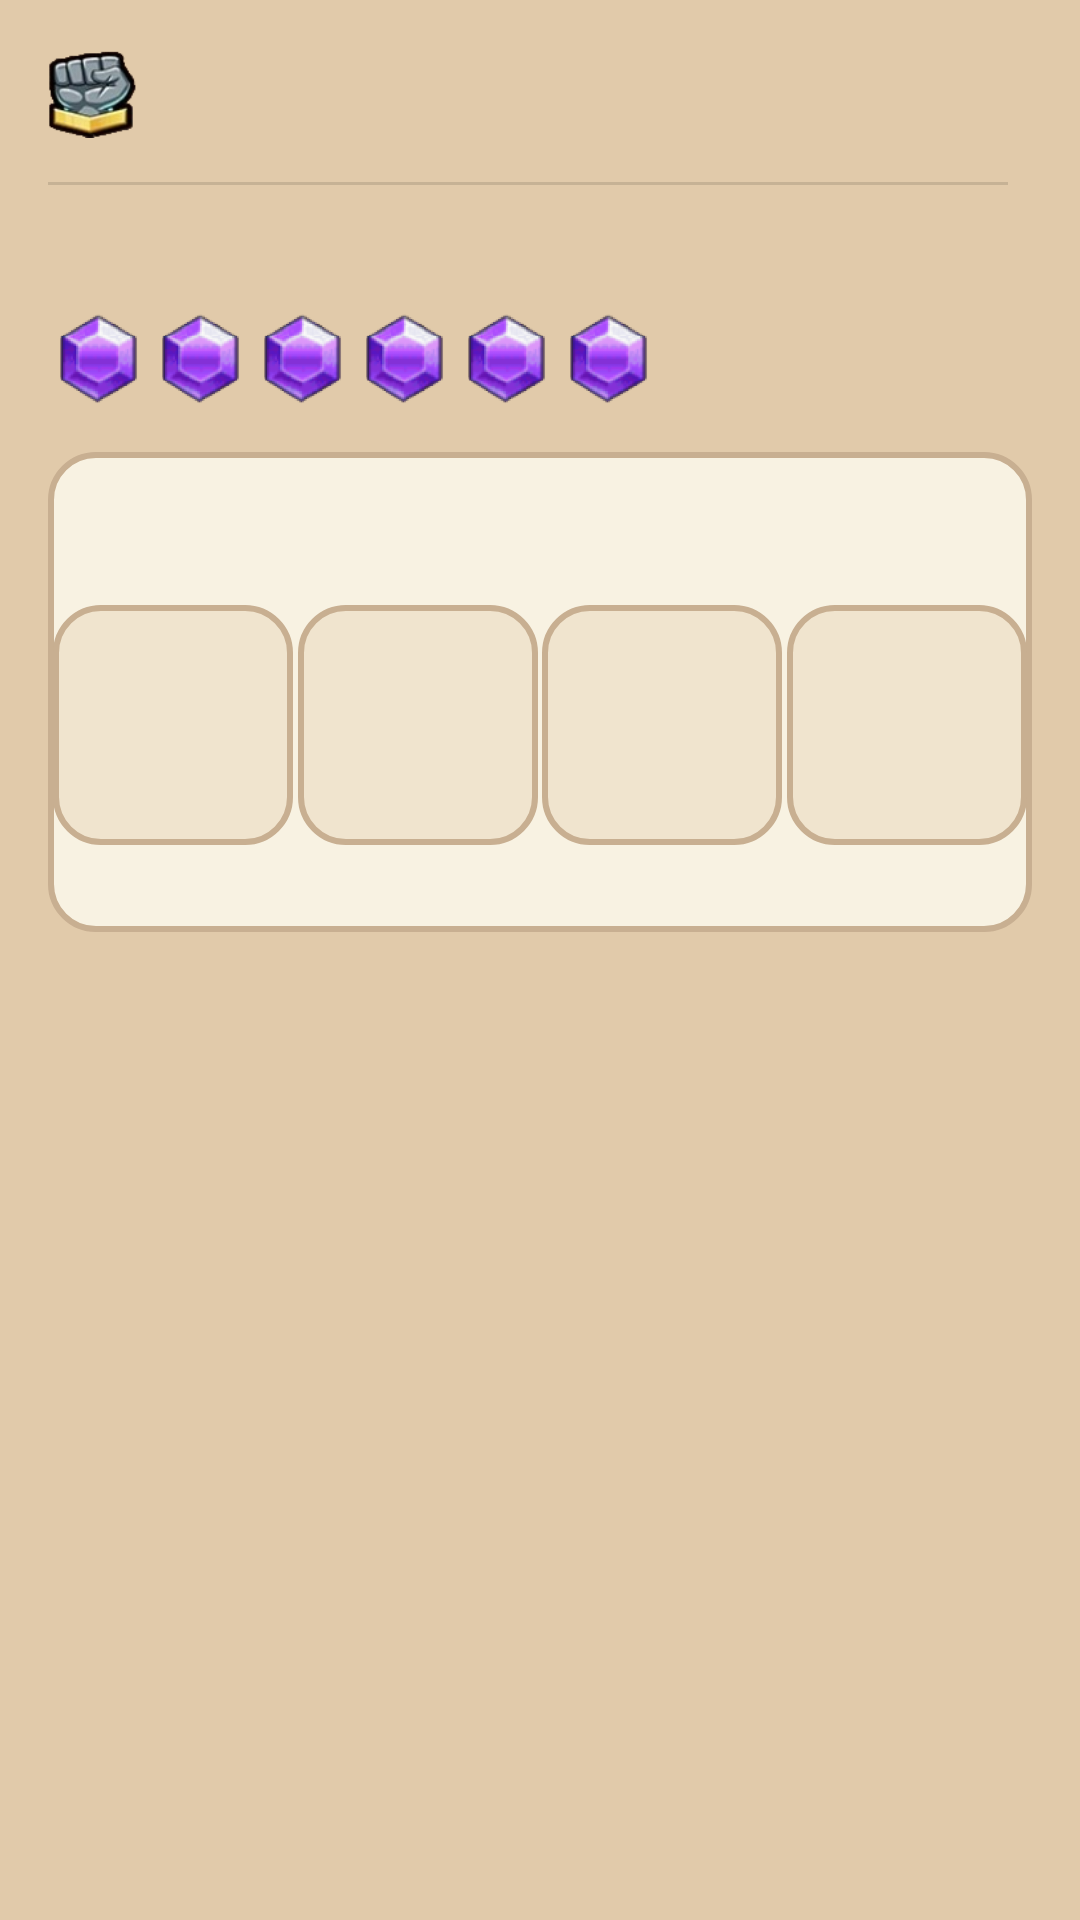

Point at icon controls on the screen. Image size 1080 x 1920, points as (x=x, y=y).
power: (x=92, y=94)
tier: (x=98, y=359), (x=200, y=359), (x=302, y=359), (x=404, y=359), (x=506, y=359), (x=608, y=359)
